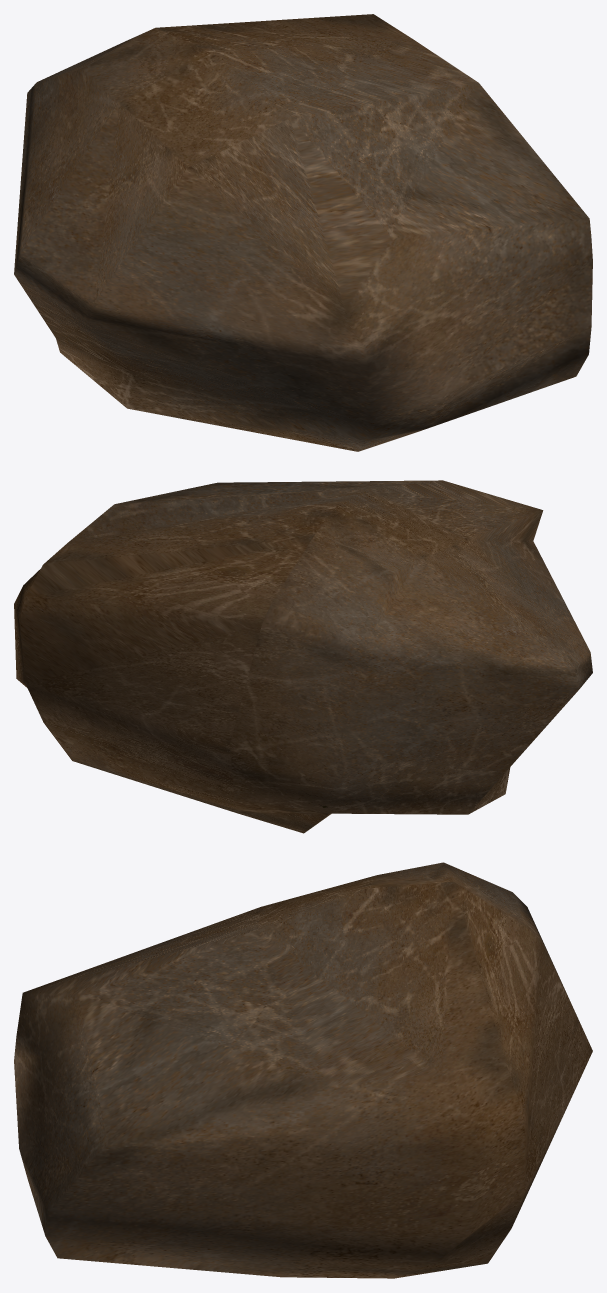
Rendered from rock.fbx.
The picture shows the model from 3 angles, top to bottom: view 1: azimuth 30°, elevation 25°; view 2: azimuth 150°, elevation 25°; view 3: azimuth 270°, elevation 25°; orthographic projection. The views are drawn at different scales.
Parts seen in each view (by area): view 1: polySurface2; view 2: polySurface2; view 3: polySurface2.
Part boxes in pixels (<box>): polySurface2: <box>14,14,592,451</box>; polySurface2: <box>14,480,592,833</box>; polySurface2: <box>14,862,592,1278</box>.
Bounding box in the file's own units: 1.3 × 0.7395 × 1.29.
